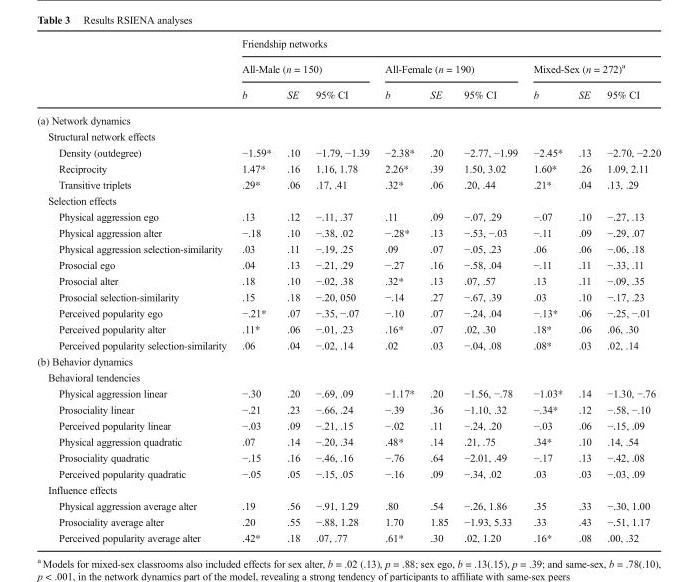table: (36, 37, 660, 543)
table column: (36, 37, 233, 543), (307, 37, 376, 543), (455, 37, 524, 543), (598, 37, 660, 543), (233, 37, 278, 543), (376, 37, 421, 543), (524, 37, 569, 543), (421, 37, 455, 543), (278, 37, 307, 543), (569, 37, 598, 543)
table column header: (36, 37, 660, 106)
table projected row header: (36, 106, 660, 127), (36, 127, 660, 143), (36, 368, 660, 384), (36, 192, 660, 207), (36, 353, 660, 368), (36, 481, 660, 496)
table row: (36, 54, 660, 80), (36, 80, 660, 106), (36, 106, 660, 127), (36, 37, 660, 54), (36, 143, 660, 160), (36, 239, 660, 256), (36, 336, 660, 353), (36, 464, 660, 481), (36, 496, 660, 513), (36, 127, 660, 143), (36, 160, 660, 176), (36, 176, 660, 192), (36, 207, 660, 223), (36, 223, 660, 239), (36, 256, 660, 272), (36, 272, 660, 288), (36, 288, 660, 304), (36, 304, 660, 320), (36, 320, 660, 336), (36, 368, 660, 384), (36, 384, 660, 400), (36, 400, 660, 416), (36, 416, 660, 432), (36, 432, 660, 448), (36, 448, 660, 464), (36, 513, 660, 529), (36, 192, 660, 207), (36, 353, 660, 368), (36, 481, 660, 496), (36, 529, 660, 543)
table spanning cell: (233, 37, 660, 54), (376, 54, 524, 80), (233, 54, 376, 80), (524, 54, 660, 80)
